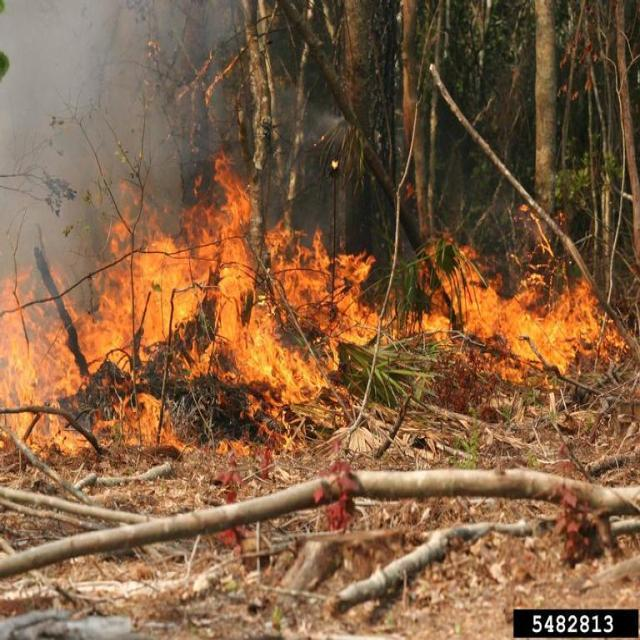Fire: (0, 148, 625, 462)
